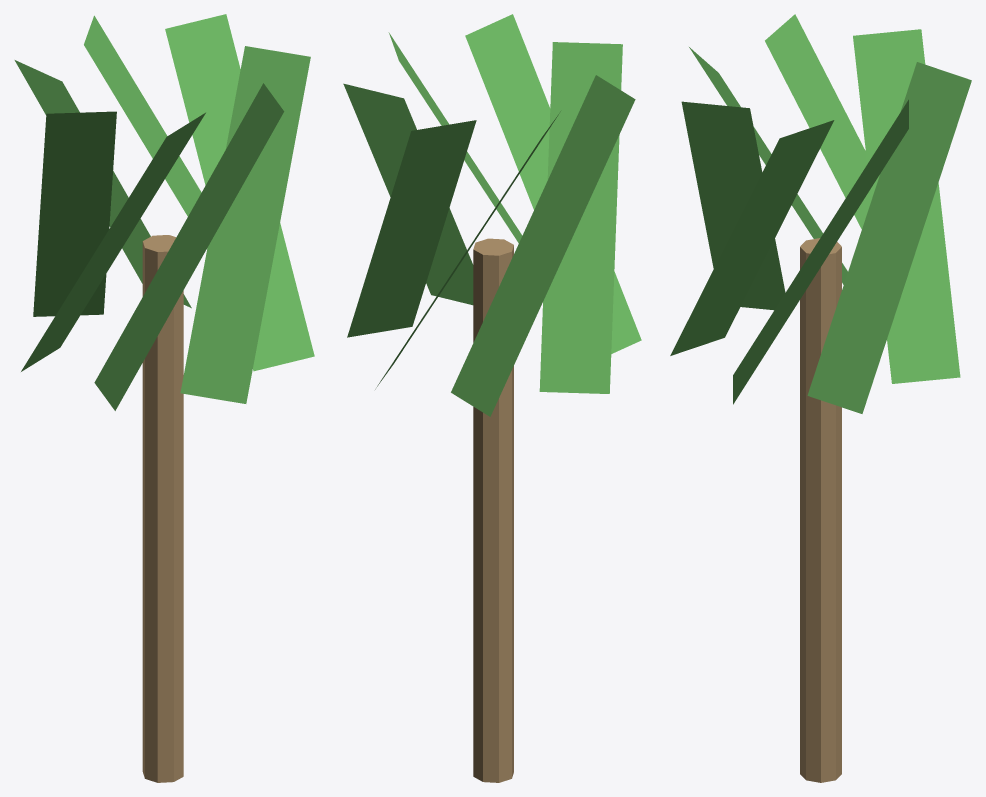
The model's file is palm_0.glb.
3 renders of one model, left to right at view 1: azimuth 30°, elevation 25°; view 2: azimuth 150°, elevation 25°; view 3: azimuth 270°, elevation 25°, orthographic.
Parts seen in each view (by area): view 1: palm_0_trunk, palm_0_frond_6, palm_0_frond_3, palm_0_frond_0, palm_0_frond_5, palm_0_frond_4, palm_0_frond_1, palm_0_frond_2; view 2: palm_0_trunk, palm_0_frond_4, palm_0_frond_3, palm_0_frond_1, palm_0_frond_5, palm_0_frond_0, palm_0_frond_6, palm_0_frond_2; view 3: palm_0_frond_1, palm_0_trunk, palm_0_frond_2, palm_0_frond_6, palm_0_frond_5, palm_0_frond_3, palm_0_frond_0, palm_0_frond_4.
Boxes of the visible parts, x1,y1,x2,y2 form: palm_0_trunk: [142, 235, 183, 782]; palm_0_frond_6: [180, 46, 310, 403]; palm_0_frond_3: [33, 111, 116, 316]; palm_0_frond_0: [165, 14, 314, 371]; palm_0_frond_5: [94, 83, 284, 410]; palm_0_frond_4: [21, 112, 205, 371]; palm_0_frond_1: [84, 15, 201, 216]; palm_0_frond_2: [14, 60, 191, 308]; palm_0_trunk: [473, 238, 513, 782]; palm_0_frond_4: [539, 42, 622, 393]; palm_0_frond_3: [451, 75, 635, 416]; palm_0_frond_1: [347, 120, 476, 337]; palm_0_frond_5: [465, 14, 641, 353]; palm_0_frond_0: [343, 83, 473, 305]; palm_0_frond_6: [388, 32, 522, 243]; palm_0_frond_2: [375, 111, 560, 389]; palm_0_frond_1: [807, 62, 971, 413]; palm_0_trunk: [800, 238, 841, 782]; palm_0_frond_2: [853, 29, 960, 383]; palm_0_frond_6: [670, 120, 834, 355]; palm_0_frond_5: [681, 101, 785, 310]; palm_0_frond_3: [765, 14, 871, 229]; palm_0_frond_0: [733, 99, 908, 404]; palm_0_frond_4: [689, 47, 847, 284].
Size of the model in its own units: 1.67 by 4.38 by 1.72.
